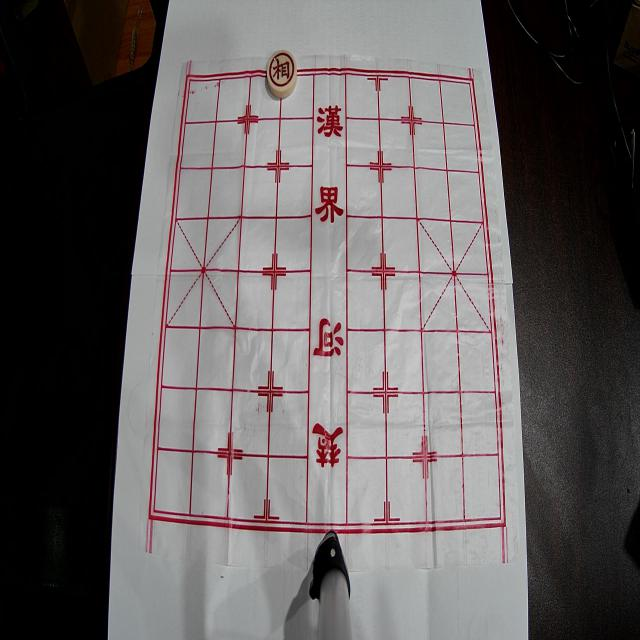red-elephant: (267, 50, 297, 98)
